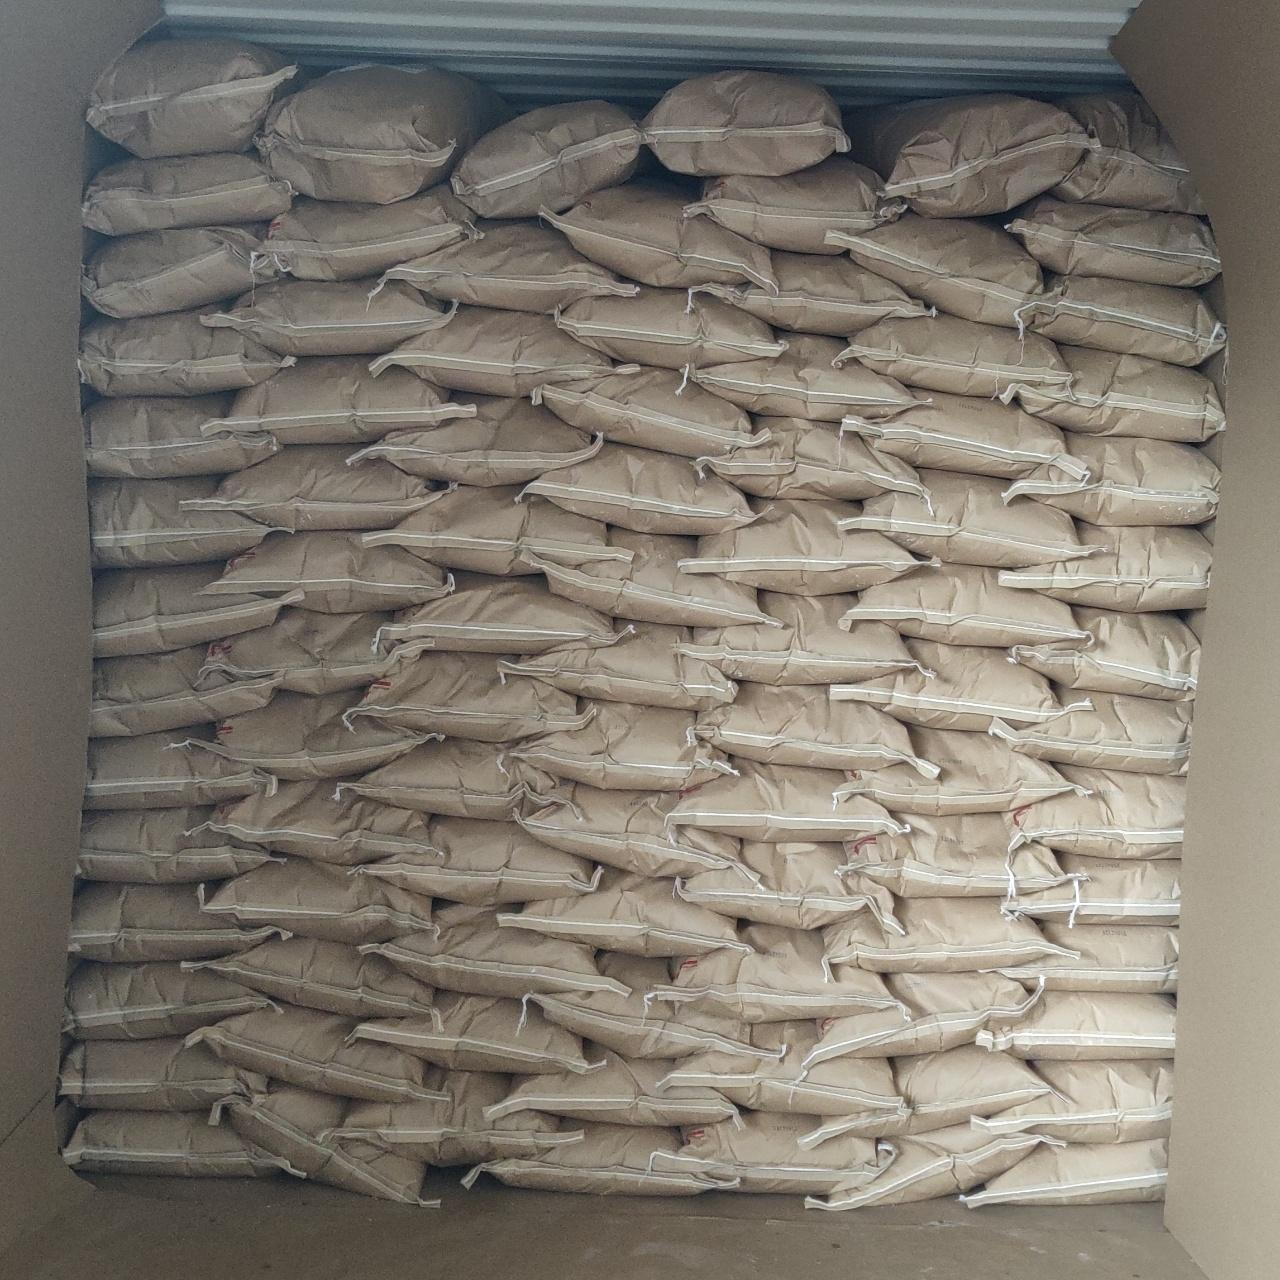sack: (254, 66, 508, 202), (862, 94, 1090, 217), (524, 953, 783, 1060), (210, 1087, 437, 1207), (542, 181, 778, 295), (799, 1044, 1049, 1150), (646, 921, 903, 1023), (520, 527, 779, 627), (87, 38, 302, 157), (358, 904, 629, 998), (825, 210, 1043, 326), (350, 485, 631, 576), (840, 470, 1099, 567), (369, 305, 641, 397), (801, 972, 1039, 1077), (181, 937, 443, 1032), (369, 222, 638, 314), (679, 501, 940, 595), (316, 1071, 580, 1165), (687, 682, 938, 779), (186, 1005, 440, 1101), (518, 784, 760, 884), (202, 356, 475, 444), (830, 639, 1092, 730), (345, 394, 599, 486), (170, 692, 436, 779), (498, 866, 753, 956), (806, 1121, 1062, 1210), (678, 591, 918, 685), (682, 333, 934, 422), (661, 1022, 903, 1115), (839, 727, 1090, 816), (531, 365, 769, 458), (450, 101, 640, 217), (998, 345, 1224, 442), (641, 70, 849, 176), (188, 778, 440, 865), (181, 445, 438, 530), (343, 651, 581, 742), (843, 390, 1081, 482), (831, 315, 1075, 403), (675, 840, 903, 934), (522, 443, 753, 535), (840, 812, 1087, 898), (687, 250, 930, 336), (686, 156, 901, 253), (379, 572, 634, 654), (485, 1044, 738, 1126), (498, 622, 737, 709), (331, 737, 579, 821), (259, 185, 479, 279), (360, 818, 597, 905), (508, 701, 737, 790), (647, 1111, 892, 1194), (200, 531, 452, 612), (197, 608, 433, 694), (461, 1122, 737, 1194), (840, 564, 1082, 647), (347, 992, 590, 1074), (1005, 195, 1219, 287), (821, 896, 1077, 973), (202, 857, 430, 944), (91, 564, 302, 658), (1003, 434, 1219, 525), (692, 417, 928, 499), (202, 280, 458, 355), (556, 286, 787, 369), (79, 309, 297, 397), (1001, 522, 1212, 611), (669, 760, 900, 840), (1021, 275, 1225, 366), (82, 225, 279, 318), (1005, 765, 1185, 866), (1009, 605, 1200, 700), (1054, 93, 1201, 215), (69, 881, 292, 961), (988, 687, 1192, 772), (82, 154, 295, 234), (971, 1058, 1173, 1143), (83, 392, 280, 478), (90, 647, 280, 735), (88, 477, 268, 568), (63, 1110, 305, 1177), (63, 961, 268, 1039), (59, 1037, 267, 1110), (84, 730, 275, 809), (959, 1138, 1167, 1208), (77, 806, 270, 883), (975, 990, 1175, 1060), (990, 920, 1176, 993), (1002, 851, 1180, 925)
